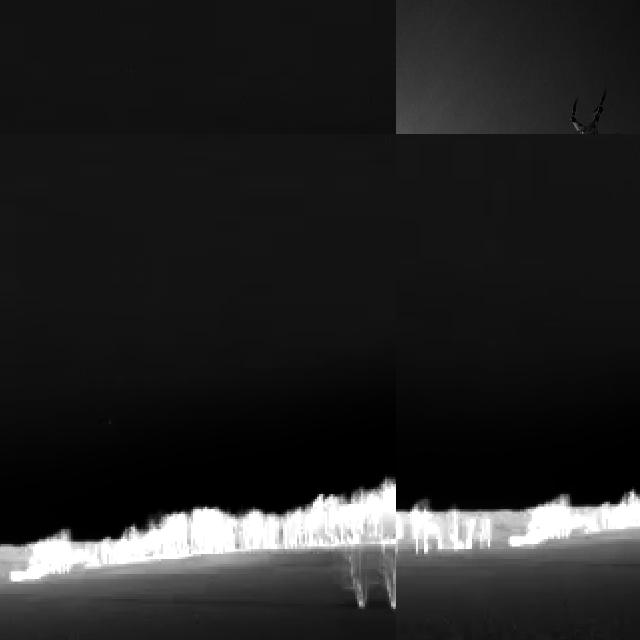0: (93, 406, 119, 442)
drone: (566, 82, 617, 134)
